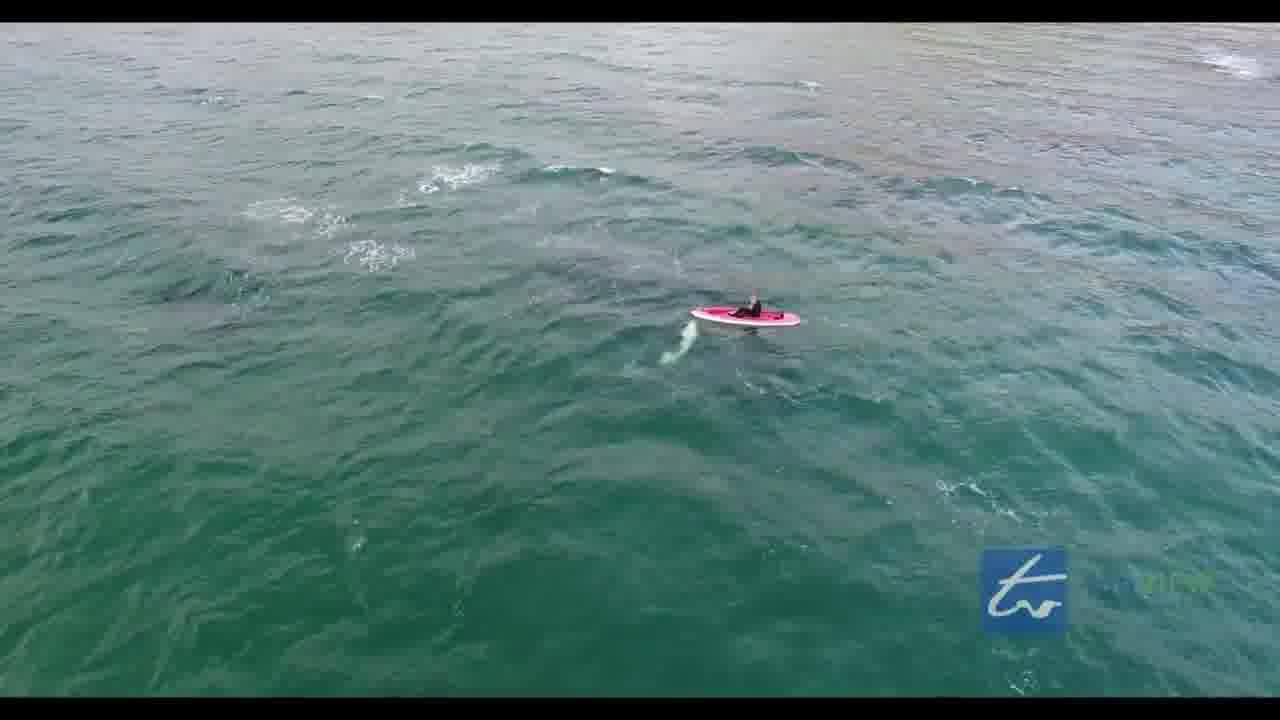human: (725, 283, 768, 329)
